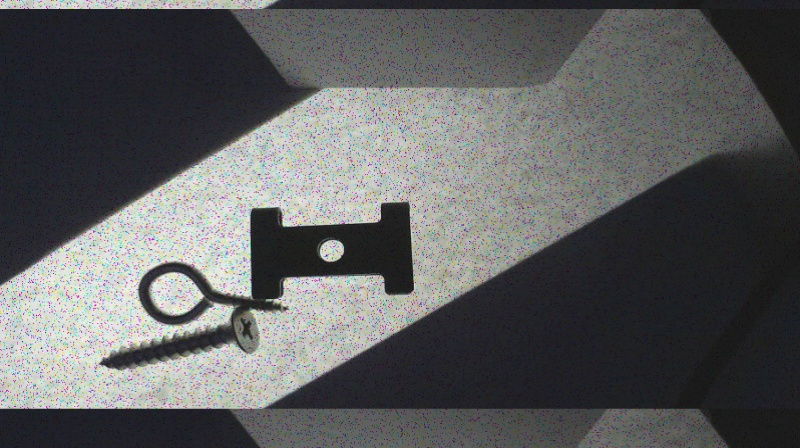O001: (135, 261, 288, 325)
O002: (246, 201, 416, 296)
S001: (97, 308, 259, 371)
